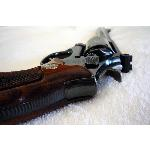Pistol: (1, 28, 132, 124)
